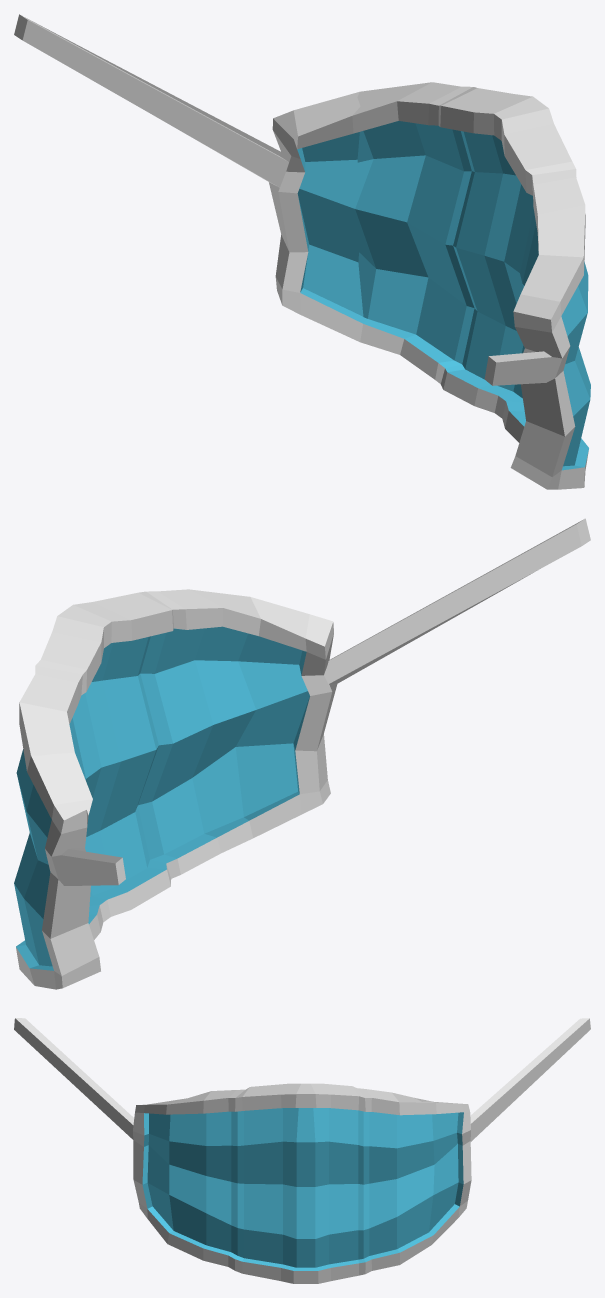
The model's file is Covid_Mask.fbx.
The picture shows the model from 3 angles, top to bottom: view 1: azimuth 30°, elevation 25°; view 2: azimuth 150°, elevation 25°; view 3: azimuth 270°, elevation 25°; orthographic projection. The views are drawn at different scales.
Parts seen in each view (by area): view 1: Mask; view 2: Mask; view 3: Mask.
Boxes of the visible parts, x1,y1,x2,y2 form: Mask: (14, 14, 590, 489); Mask: (14, 518, 590, 989); Mask: (14, 1018, 590, 1283).
Size of the model in its own units: 45.53 by 45.81 by 126.
